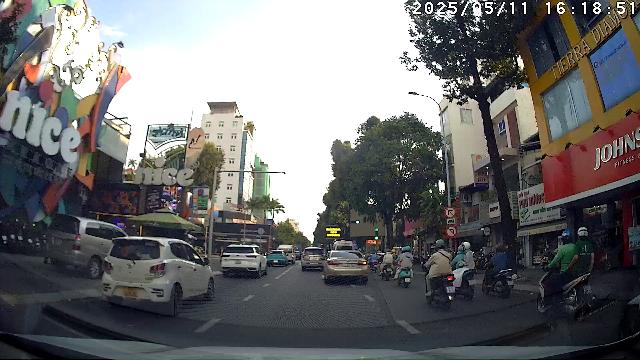123a-cam-re-trai: (445, 226, 457, 238)
123b-cam-re-phai: (444, 207, 456, 218)
